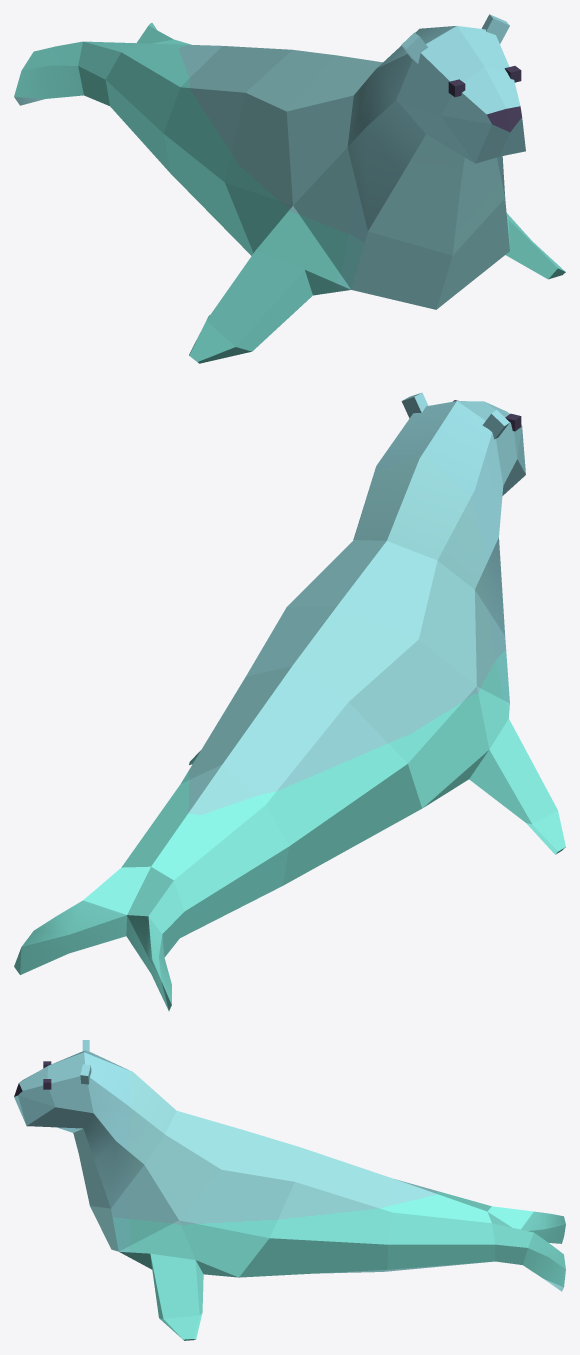
The model's file is Seal.fbx.
3 renders of one model, top to bottom at view 1: azimuth 30°, elevation 25°; view 2: azimuth 150°, elevation 25°; view 3: azimuth 270°, elevation 25°, orthographic. The views are drawn at different scales.
Parts seen in each view (by area): view 1: Seal1; view 2: Seal1; view 3: Seal1.
Boxes of the visible parts, x1,y1,x2,y2 form: Seal1: (14,14,565,363); Seal1: (14,392,565,1010); Seal1: (14,1040,565,1340).
Bounding box in the file's own units: 1.05 × 0.9498 × 2.06.
